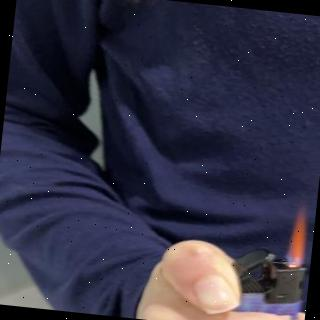fire: (283, 208, 312, 266)
